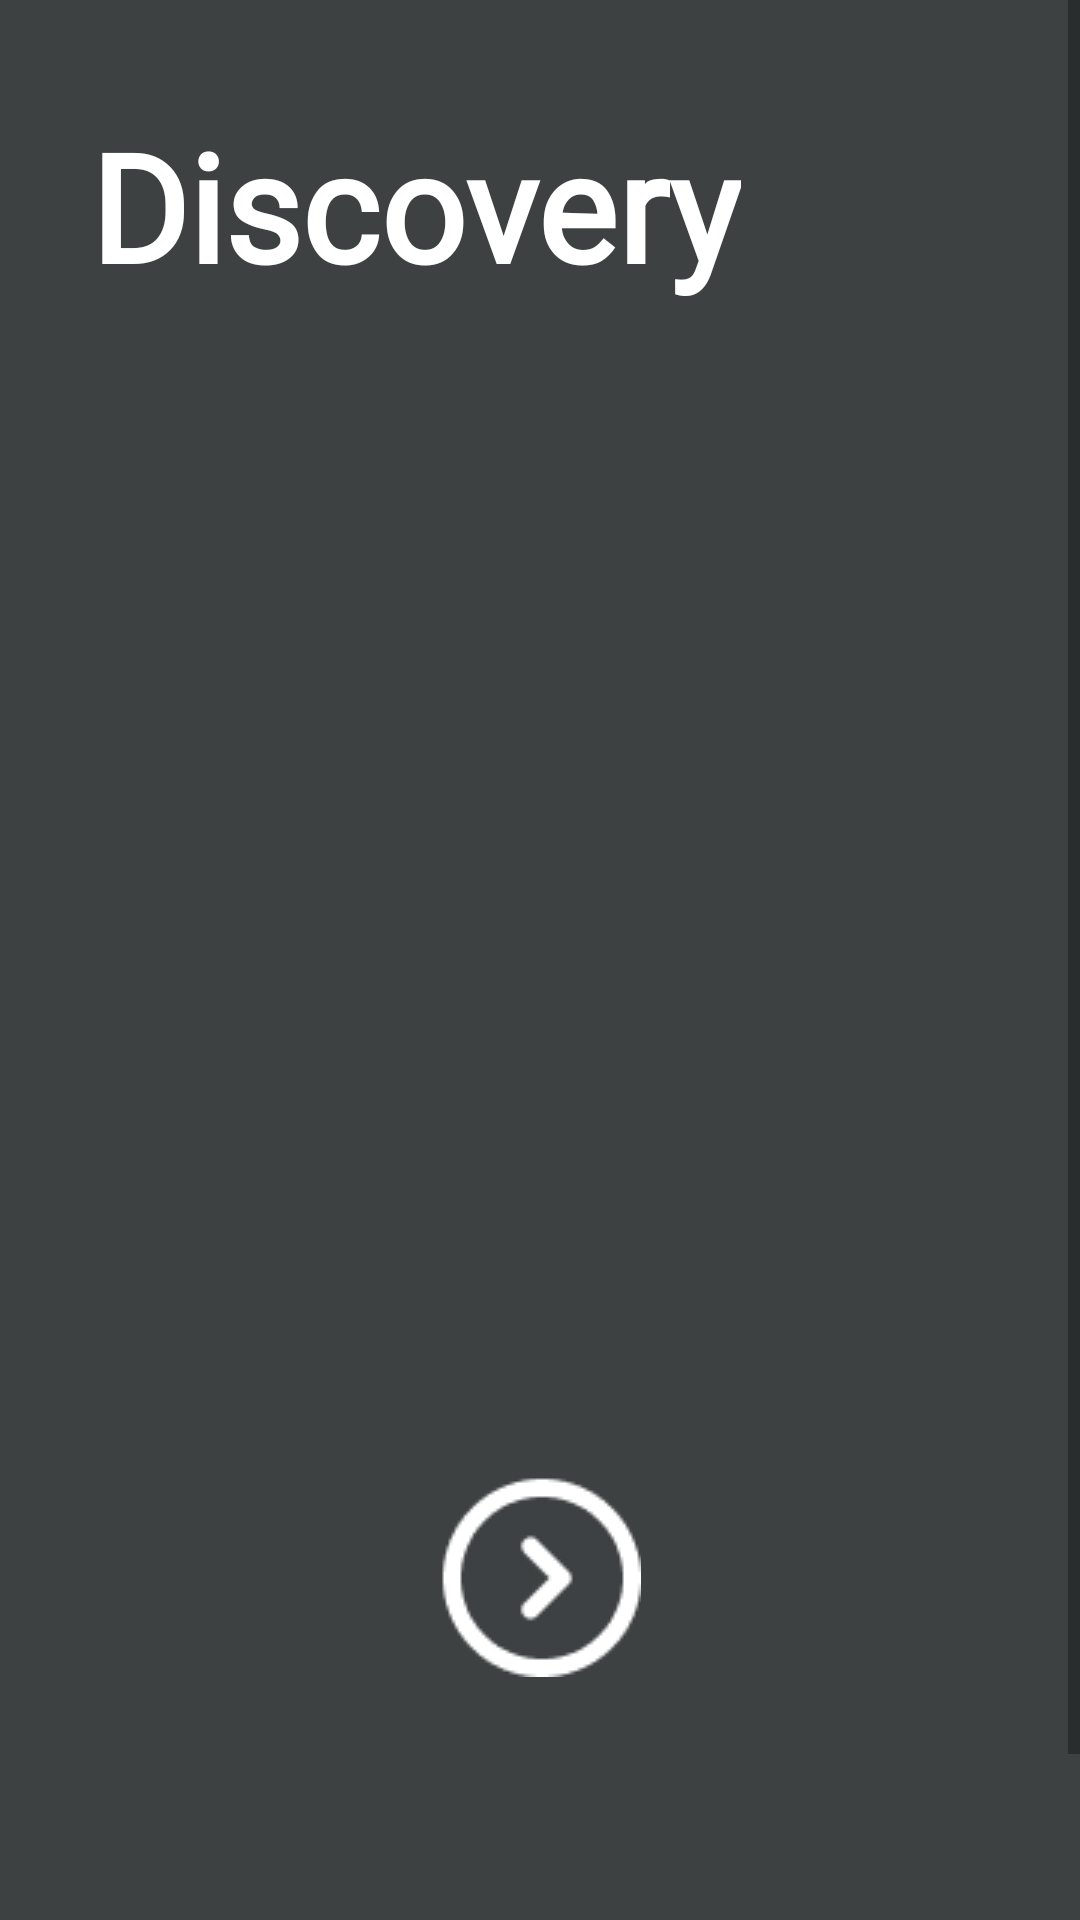

Where icons sit on this 1080*1920 app screen, as [left=x1, top=y1, right=x2, bottom=y2]:
forward: [left=442, top=1478, right=641, bottom=1677]
